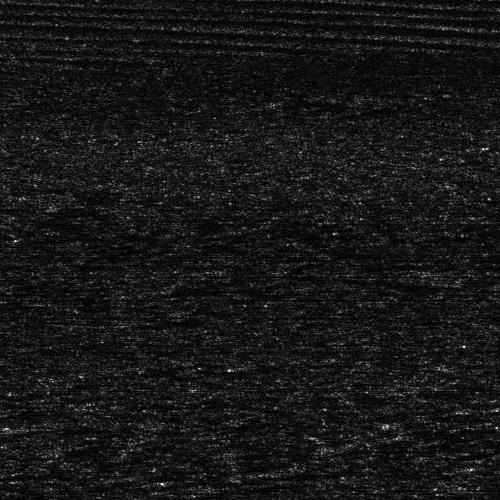object: (245, 466, 308, 477)
shadow: (277, 466, 465, 477)
